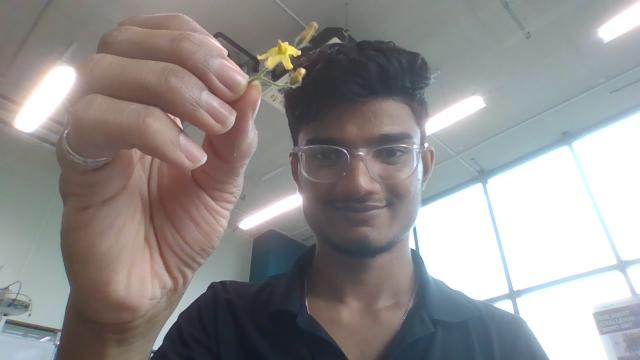Anthesis: (257, 39, 301, 72), (297, 21, 319, 46), (288, 66, 307, 89)
